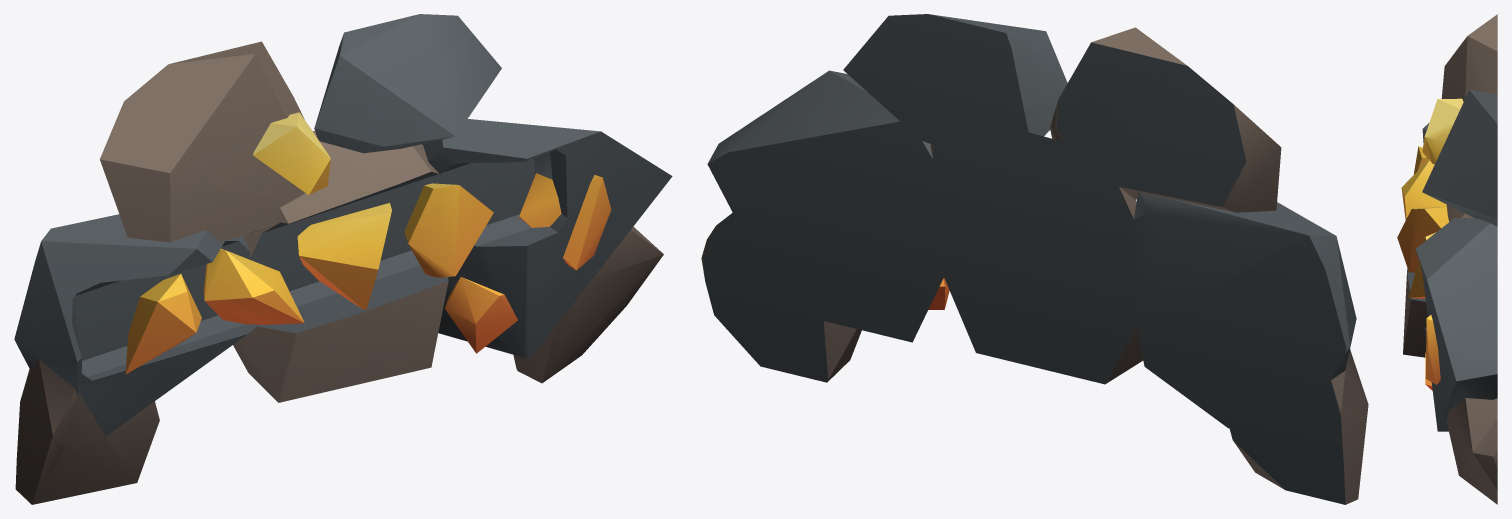
File: ore_vein_b.glb
3 renders of one model, left to right at view 1: azimuth 30°, elevation 25°; view 2: azimuth 150°, elevation 25°; view 3: azimuth 270°, elevation 25°, orthographic. The views are drawn at different scales.
Parts seen in each view (by area): view 1: ore_vein_b; view 2: ore_vein_b; view 3: ore_vein_b.
Boxes of the visible parts, <box> form: ore_vein_b: <box>14,14,672,504</box>; ore_vein_b: <box>701,14,1368,504</box>; ore_vein_b: <box>1397,14,1497,504</box>.
Bounding box in the file's own units: 2.68 × 1.61 × 0.4434.
Materials: 1 (1 with a texture image).
